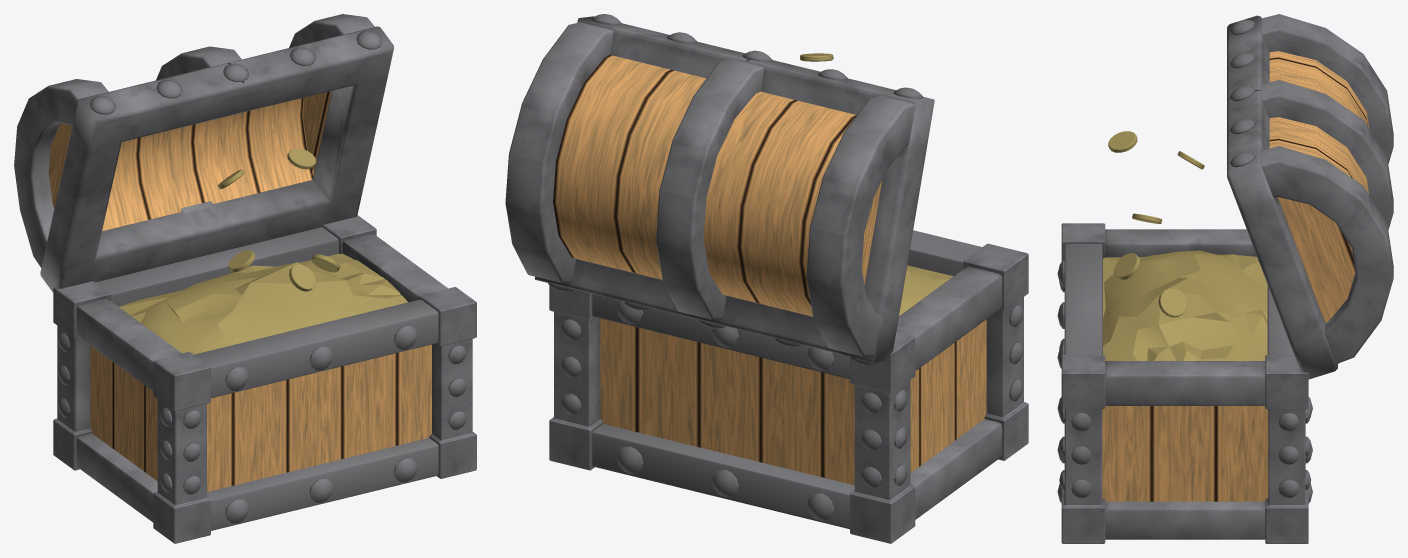
File: chest.fbx
3 renders of one model, left to right at view 1: azimuth 30°, elevation 25°; view 2: azimuth 150°, elevation 25°; view 3: azimuth 270°, elevation 25°, orthographic. The views are drawn at different scales.
Parts seen in each view (by area): view 1: Bake_2, Bake_1, Bake_3, Bake_3.001, Plane.001, Cylinder.014; view 2: Bake_1, Bake_2, Bake_3.001, Bake_3, Plane.001; view 3: Bake_2, Bake_1, Plane.001, Bake_3, Bake_3.001, Cylinder.011, Cylinder.014, Cylinder.012.
Boxes of the visible parts, bbox=[...] form: Bake_2: bbox=[53, 215, 476, 543]; Bake_1: bbox=[14, 14, 393, 292]; Bake_3: bbox=[90, 344, 431, 491]; Bake_3.001: bbox=[48, 91, 331, 230]; Plane.001: bbox=[119, 253, 408, 354]; Cylinder.014: bbox=[289, 264, 315, 291]; Bake_1: bbox=[505, 14, 934, 365]; Bake_2: bbox=[549, 230, 1028, 543]; Bake_3.001: bbox=[553, 55, 881, 316]; Bake_3: bbox=[600, 318, 986, 485]; Plane.001: bbox=[899, 265, 953, 315]; Bake_2: bbox=[1057, 223, 1312, 543]; Bake_1: bbox=[1227, 14, 1393, 379]; Plane.001: bbox=[1103, 250, 1267, 360]; Bake_3: bbox=[1102, 406, 1268, 501]; Bake_3.001: bbox=[1269, 51, 1368, 322]; Cylinder.011: bbox=[1158, 288, 1187, 317]; Cylinder.014: bbox=[1114, 253, 1139, 279]; Cylinder.012: bbox=[1108, 131, 1137, 152].
Bounding box in the file's own units: 795 × 930 × 741.
3 materials, 2 textured.
